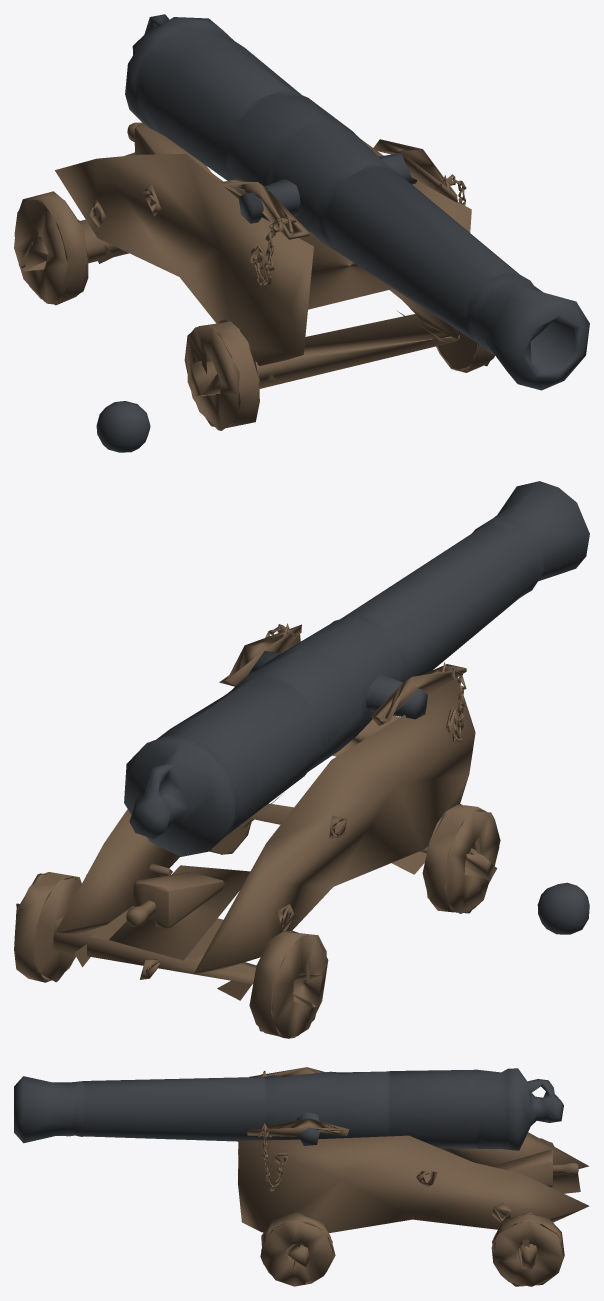
The model's file is Cannon.glb.
3 views of the same model, one above another, from view 1: azimuth 30°, elevation 25°; view 2: azimuth 150°, elevation 25°; view 3: azimuth 270°, elevation 25° (orthographic). The views are drawn at different scales.
Parts seen in each view (by area): view 1: Cannon; view 2: Cannon; view 3: Cannon.
Part boxes in pixels (x1=…): Cannon: x1=14, y1=14, x2=589, y2=452; Cannon: x1=14, y1=481, x2=589, y2=1038; Cannon: x1=14, y1=1067, x2=589, y2=1286.
Bounding box in the file's own units: 1.24 × 0.7798 × 2.33.
